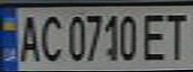0: (118, 11, 142, 63), (63, 11, 84, 63)
1: (103, 11, 121, 62)
7: (84, 11, 103, 62)
A: (12, 11, 42, 63)
C: (36, 11, 63, 63)
E: (139, 10, 172, 62)
T: (160, 9, 193, 62)
